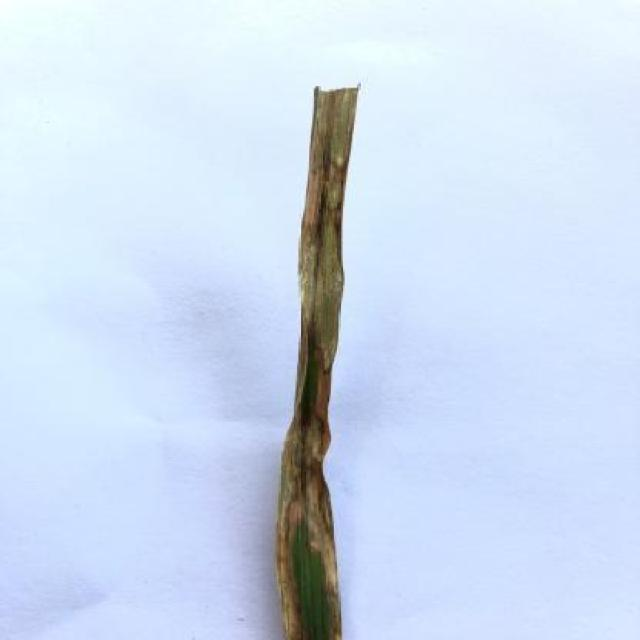Brown_Spot: (269, 69, 369, 640)
